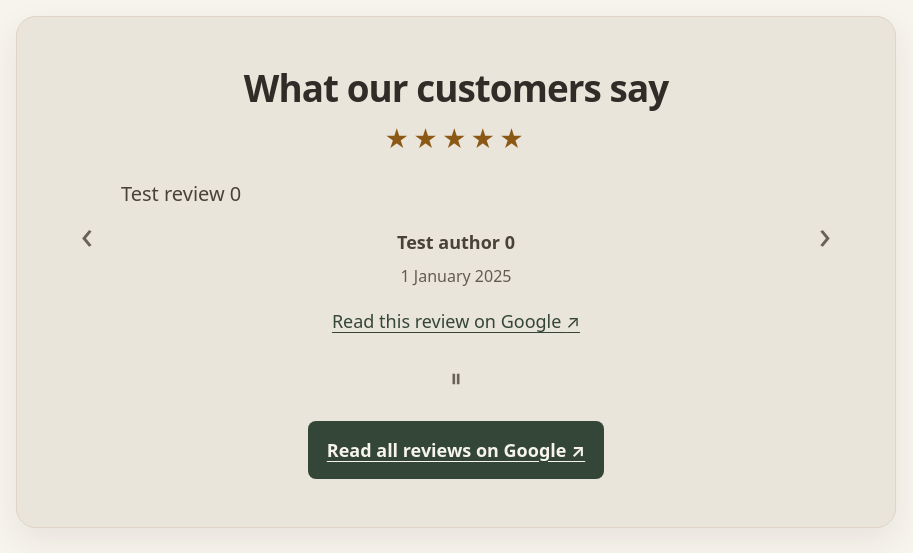
it: pause and resume controls work with pointer interaction
Click the button named "Pause rotation".
click(456, 379)  # box [434,357,478,401]
Wait 12000 ms
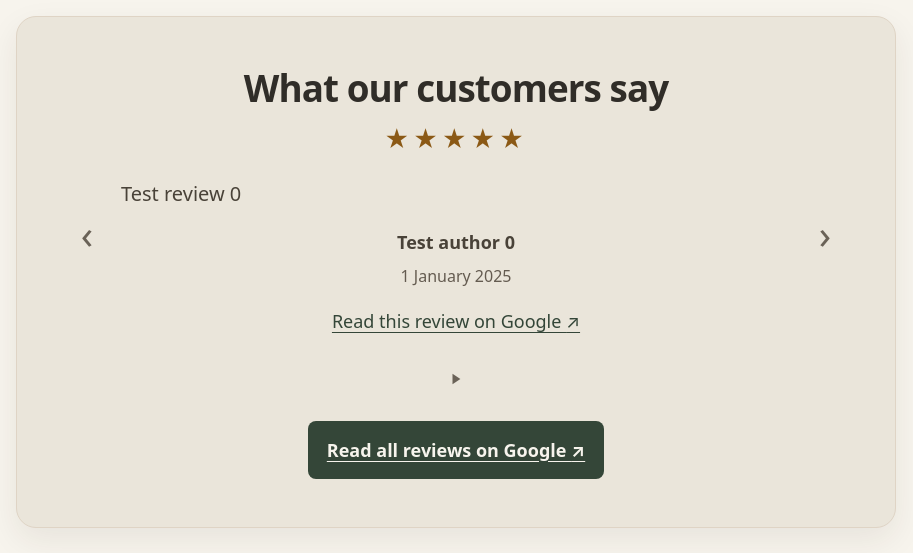
Expected: the text "Test review 0" is shown, [121,180,241,207]
Click the button named "Resume rotation".
click(456, 379)  # box [434,357,478,401]
Wait 6000 ms
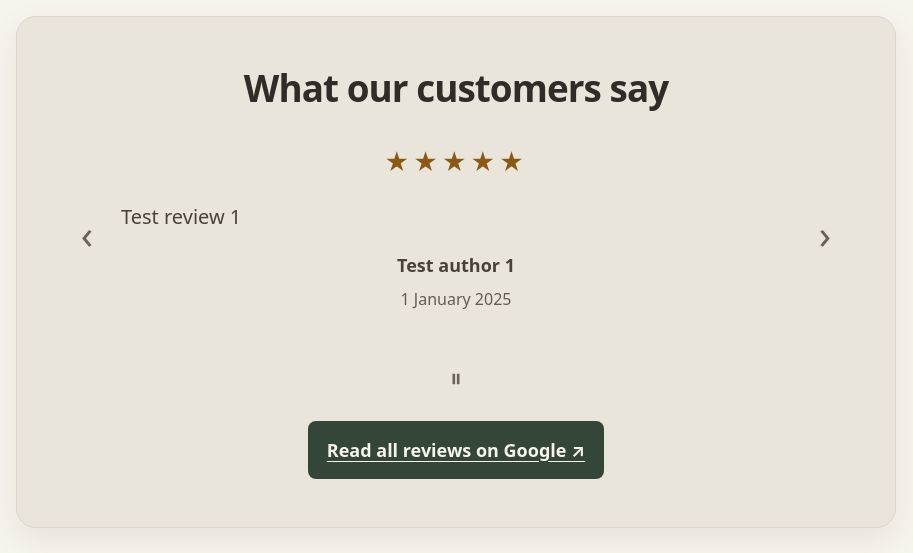
Now the text "Test review 1" is shown, box [121,203,241,230]
